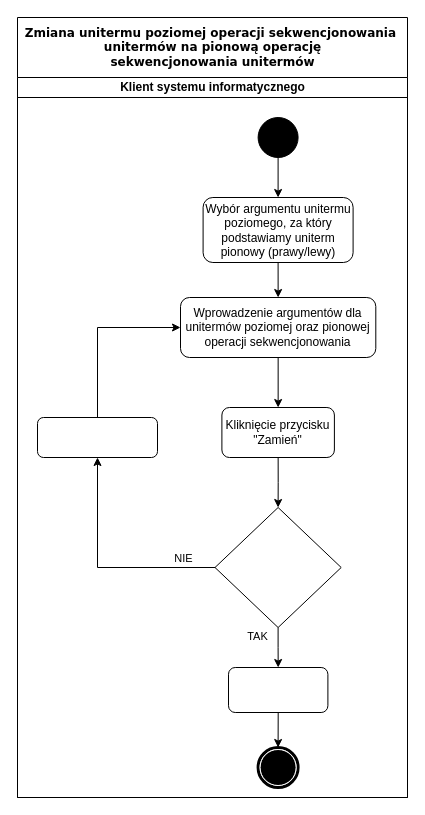
The diagram is 425 pixels wide and 815 high, and some of its shapes have lost their labels. The box of each missing label's shape, as (x1, y1, x2, y2) in pixels:
Błąd wprowadzonych danych: (36, 416, 158, 458)
Czy wszystkie 4 argumenty są wpisane?: (214, 506, 341, 628)
Wyświetlenie zmienionego unitermu: (228, 666, 328, 712)
